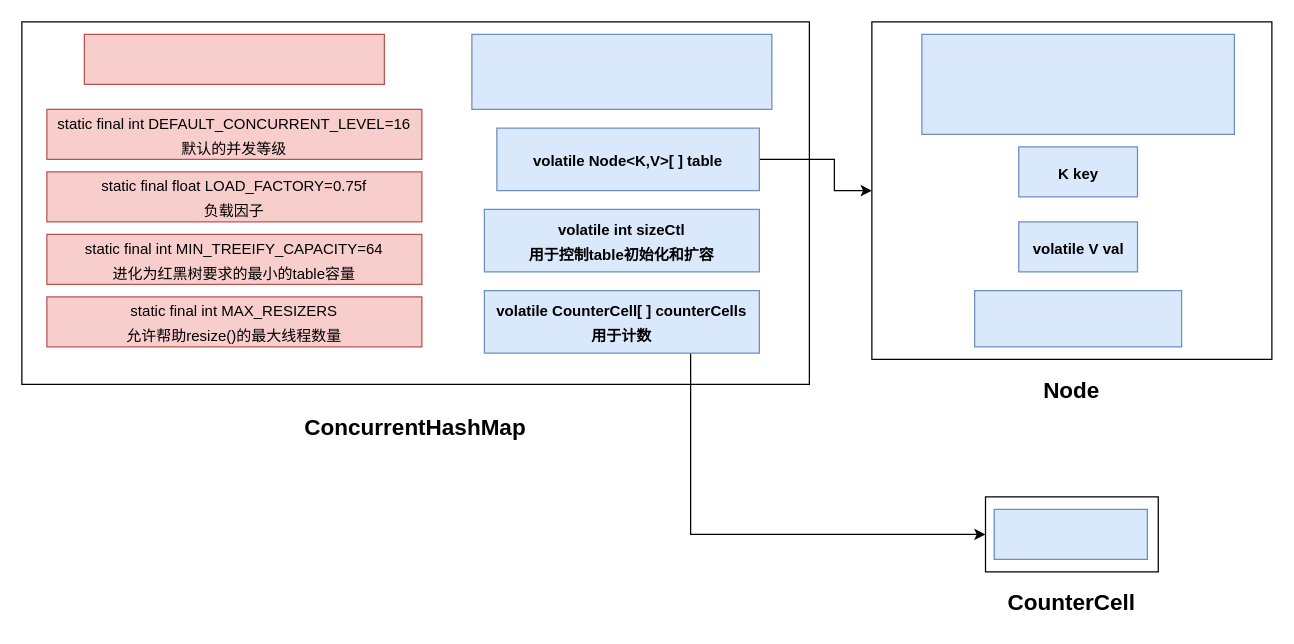
Image size: 1294x644. Some labels were removed from this diagram. Each missing label, with the centre of its shape:
int hash hash为-1，表示正在扩容 hash为-2，表示为红黑树的根节点 hash>=0，表示为链表的首节点: point 1077,83
static final int DEFAULT_CAPACITY=16 默认初始容量，必须是2的幂次方: point 233,58
volatile long value: point 1070,533
volatile Node<K,V> next: point 1077,318
volatile Node<K,V>[ ] nextTable 下一个使用的table，只有在resize()时非空: point 621,71
